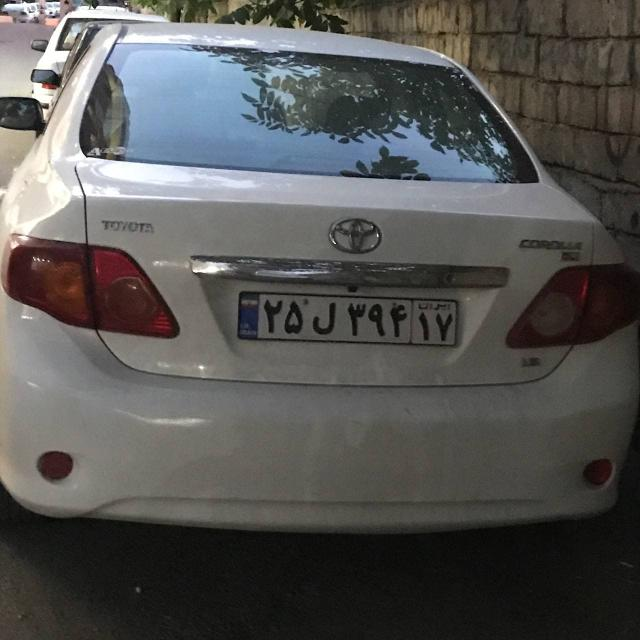Plates: (238, 291, 458, 348)
